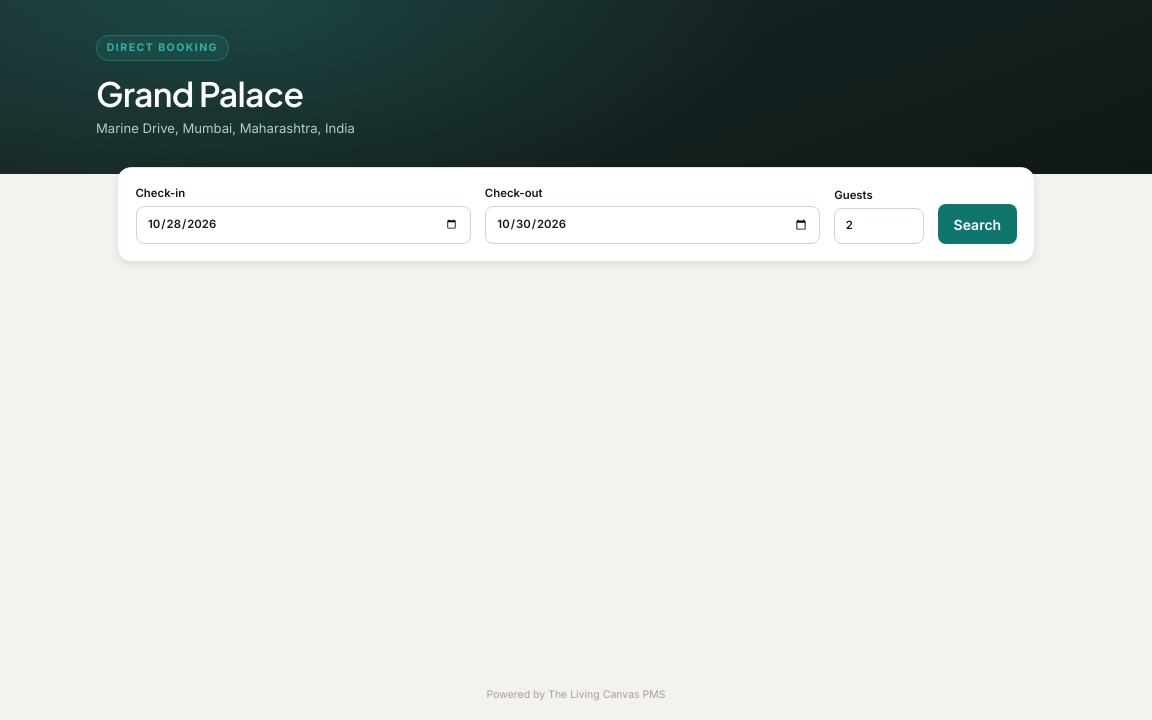
Scenario: BookingPage › shows a message when no rooms are available
The image size is (1152, 720).
Expected: the heading "Grand Palace" is shown, [96, 72, 303, 114]
Click the button "Search": (977, 224) [938, 204, 1016, 244]
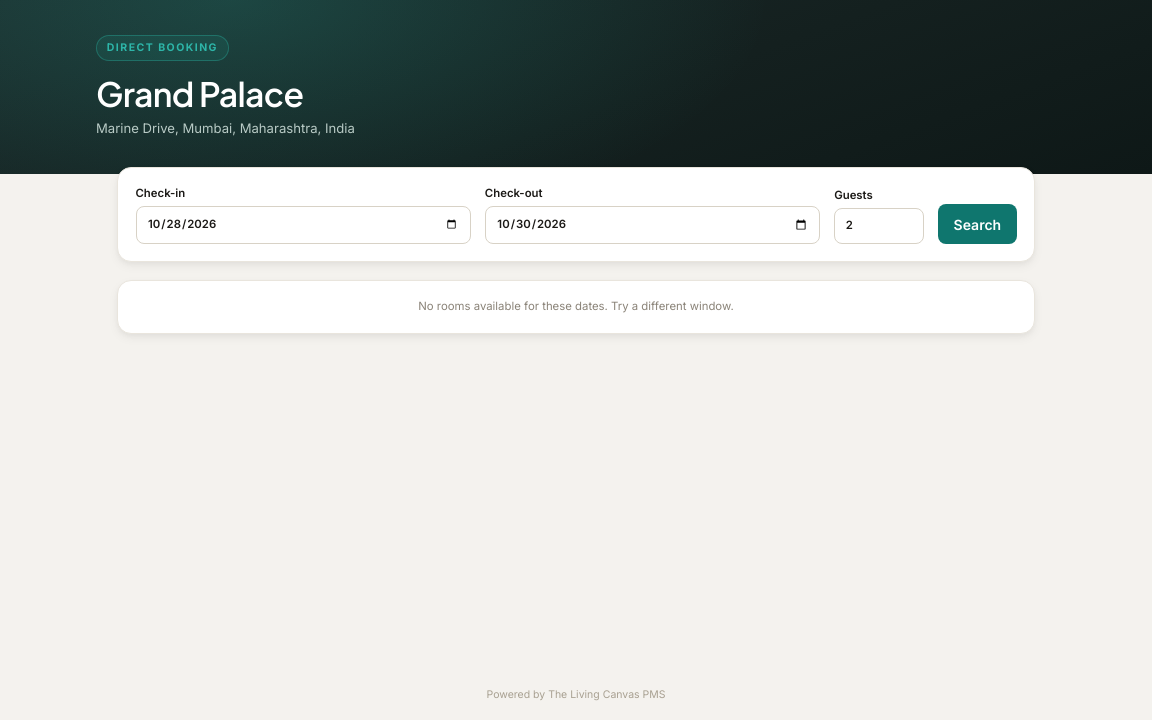
Expected: the text "No rooms available for these dates. Try a different window." is shown, [418, 299, 734, 313]
